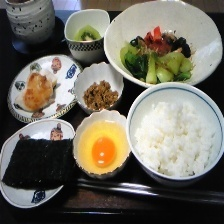rice: (132, 98, 224, 180)
